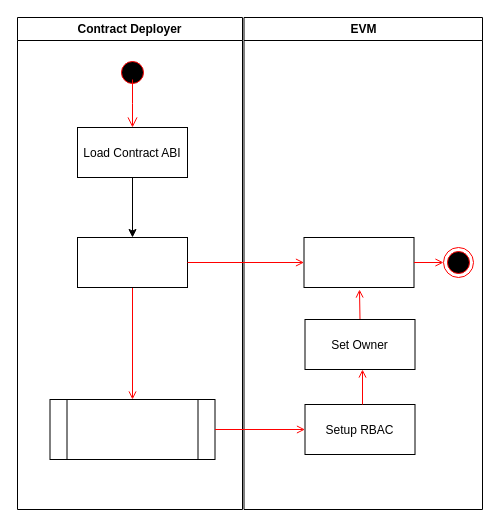
This 500x527 diagram has some shape labels left out. The shapes that lost their labels are listed below. From the top down, each one's centre as x and y in pixels, then its label:
[132,262]: Deploy Contract
[358,262]: Deployed SupplyChain Contract
[132,429]: Initialize Farmers, Distributors, Retailers & Consumers
